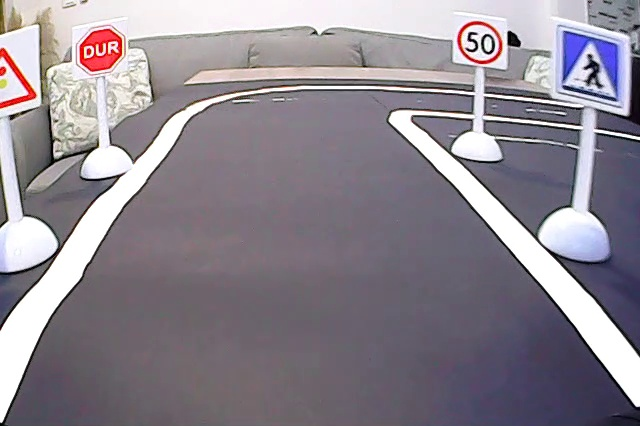pedestrian crossing: (555, 22, 630, 111)
red light: (1, 31, 38, 113)
speed limit 50: (456, 16, 507, 67)
stop sign: (73, 25, 130, 78)
